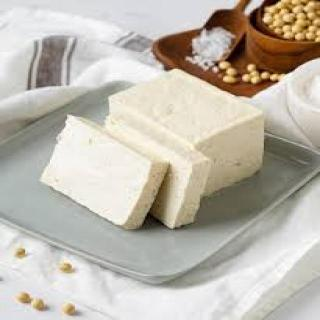Tahu: (30, 66, 283, 232)
